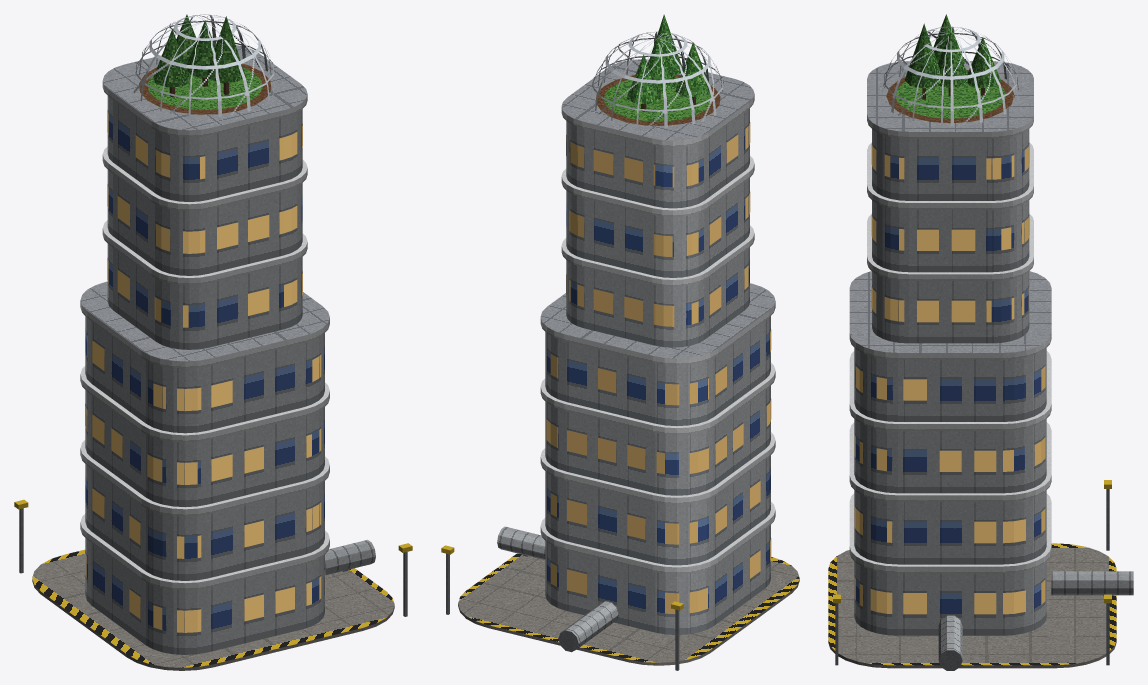
File: mars_4_luxurehab_arkologie.glb
The picture shows the model from 3 angles, left to right: view 1: azimuth 30°, elevation 25°; view 2: azimuth 150°, elevation 25°; view 3: azimuth 270°, elevation 25°; orthographic projection. The views are drawn at different scales.
Parts seen in each view (by area): view 1: luxurehab_arkologie, noc; view 2: luxurehab_arkologie, noc; view 3: luxurehab_arkologie, noc.
Part boxes in pixels (x1,y1,x2,y2): luxurehab_arkologie: (14, 14, 412, 670); noc: (85, 110, 325, 632); luxurehab_arkologie: (441, 14, 799, 670); noc: (546, 122, 771, 614); luxurehab_arkologie: (828, 14, 1133, 670); noc: (854, 143, 1045, 614).
Bounding box in the file's own units: 13.98 × 29.18 × 13.98.
1 material, 1 textured.
